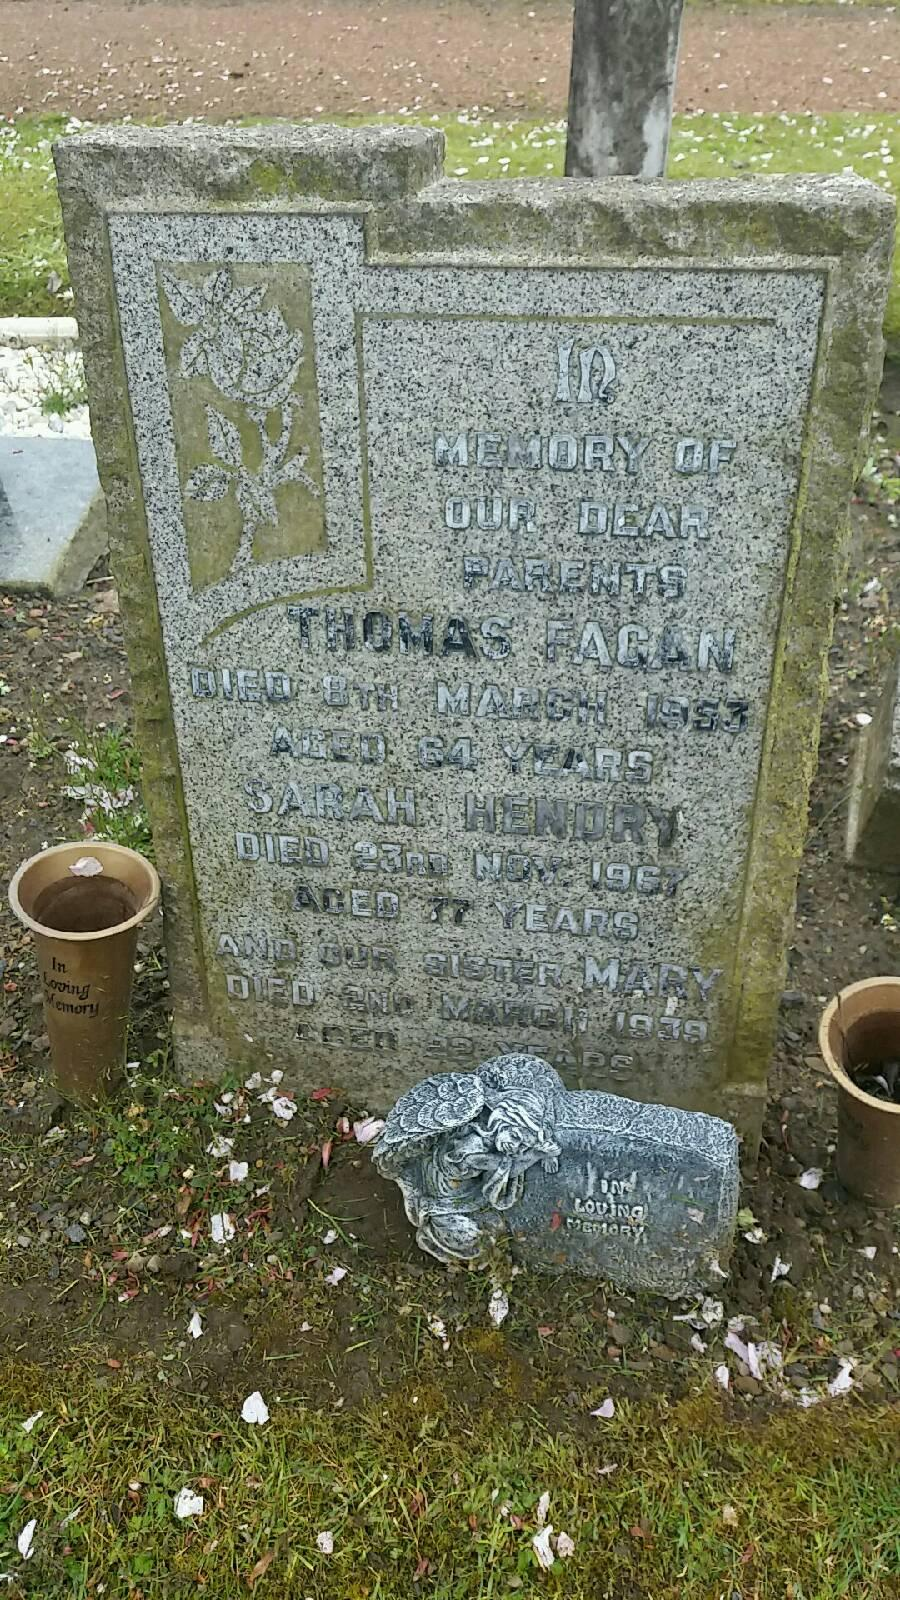upright: (49, 115, 891, 1166)
